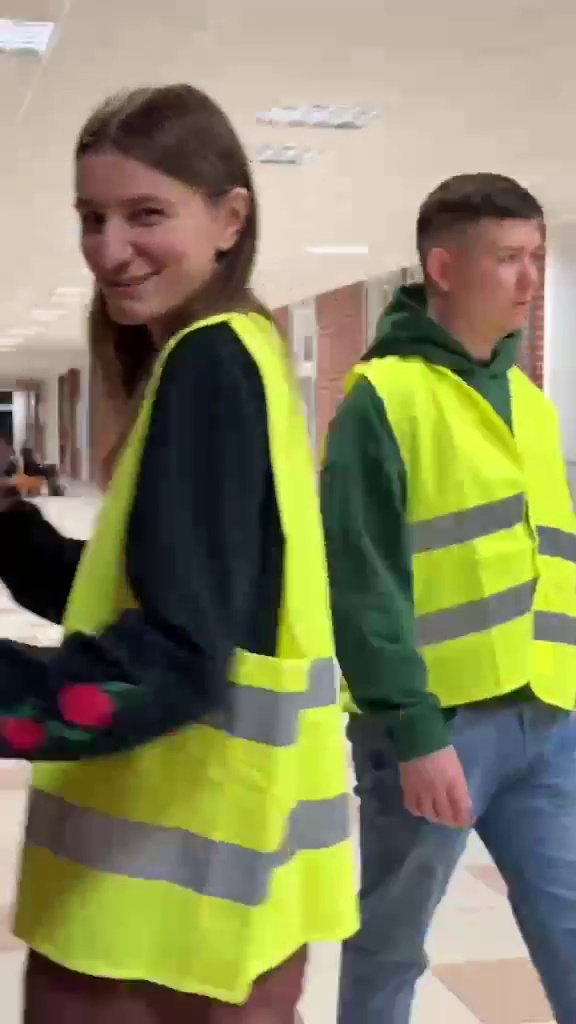vest: (31, 77, 349, 962), (344, 159, 576, 987)
